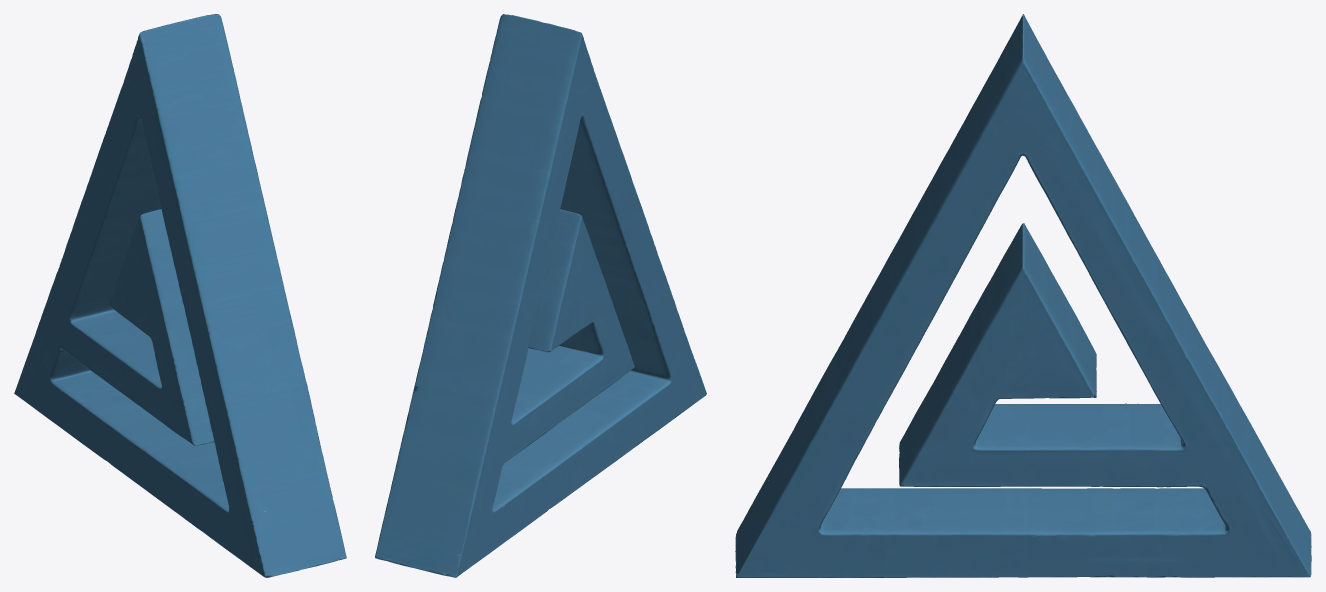
The model's file is HeroModul-opt.glb.
3 renders of one model, left to right at view 1: azimuth 30°, elevation 25°; view 2: azimuth 150°, elevation 25°; view 3: azimuth 270°, elevation 25°, orthographic. The views are drawn at different scales.
Parts seen in each view (by area): view 1: tripo_node_756e343b-60d8-4ff8-a679-28d60f1b44a7; view 2: tripo_node_756e343b-60d8-4ff8-a679-28d60f1b44a7; view 3: tripo_node_756e343b-60d8-4ff8-a679-28d60f1b44a7.
Part boxes in pixels (x1,y1,x2,y2): tripo_node_756e343b-60d8-4ff8-a679-28d60f1b44a7: (14,14,346,577); tripo_node_756e343b-60d8-4ff8-a679-28d60f1b44a7: (375,14,706,577); tripo_node_756e343b-60d8-4ff8-a679-28d60f1b44a7: (735,14,1311,577).
Bounding box in the file's own units: 0.1873 × 0.981 × 0.9834.
1 material, 1 textured.
